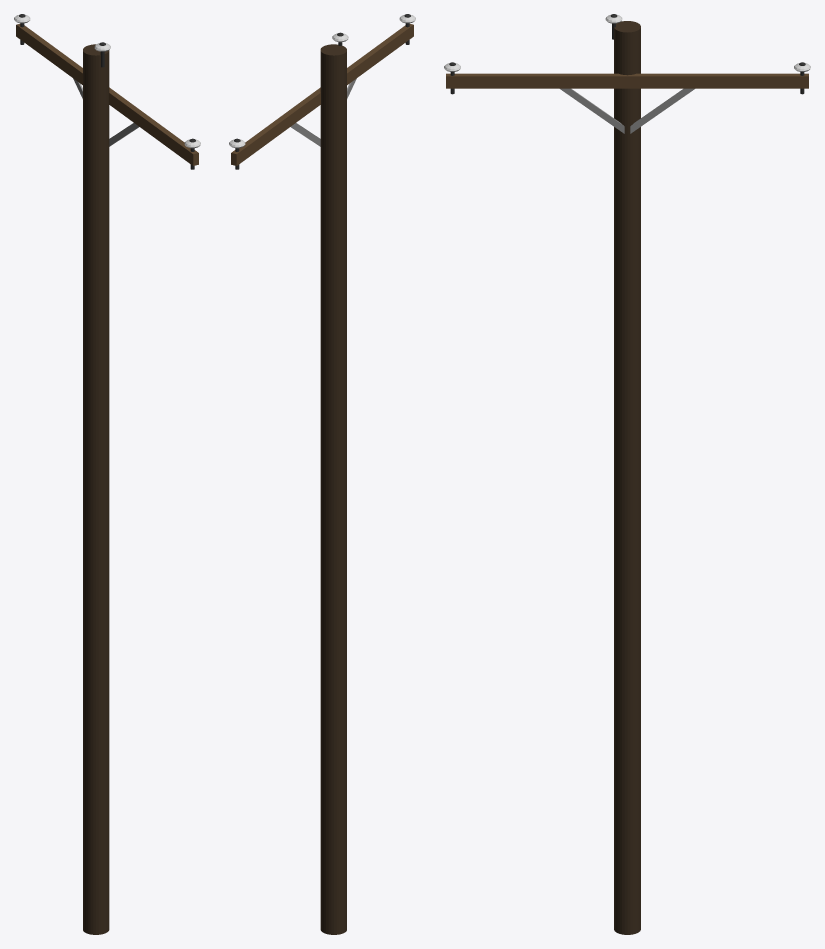
The model's file is 13.8kv_power_pole.glb.
3 views of the same model, side by side, from view 1: azimuth 30°, elevation 25°; view 2: azimuth 150°, elevation 25°; view 3: azimuth 270°, elevation 25° (orthographic). The views are drawn at different scales.
Visible parts, largest first — view 1: Object_7, Object_6; view 2: Object_7, Object_6; view 3: Object_7, Object_6, Object_4.
Part boxes in pixels (x1,y1,x2,y2): Object_7: (83,44,109,934); Object_6: (16,24,198,165); Object_7: (320,44,346,934); Object_6: (231,24,413,165); Object_7: (614,21,640,934); Object_6: (446,73,808,88); Object_4: (560,88,694,133).
Size of the model in its own units: 0.3309 by 9.38 by 3.41.
6 materials, 4 textured.
